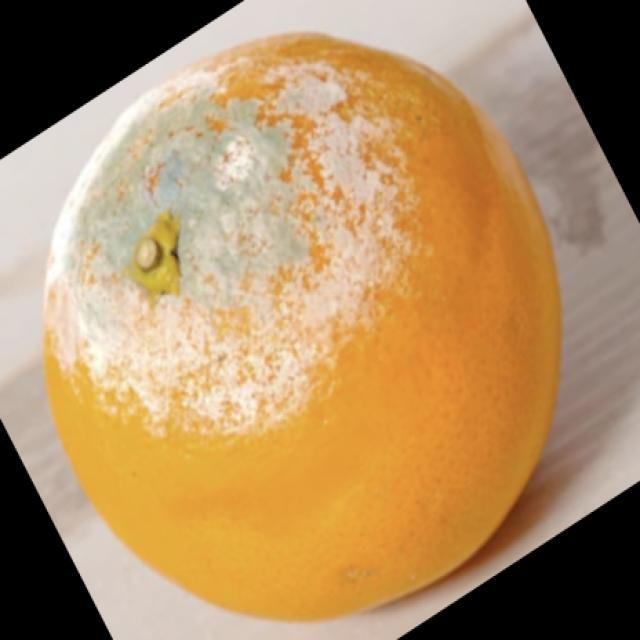sedikit-busuk: (47, 31, 561, 613), (43, 70, 403, 419)
